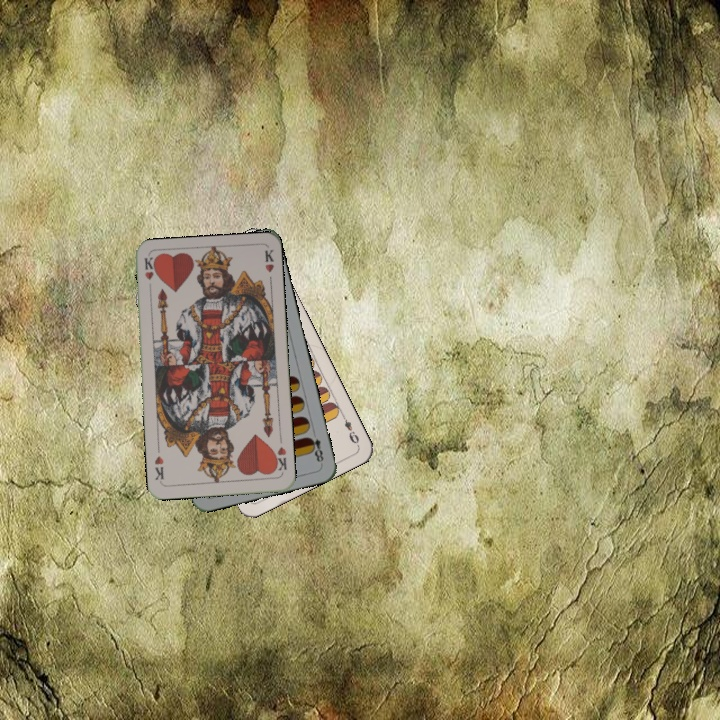E8: (304, 433, 326, 467)
E9: (338, 410, 362, 448)
HK: (140, 254, 157, 295), (269, 443, 289, 473)
